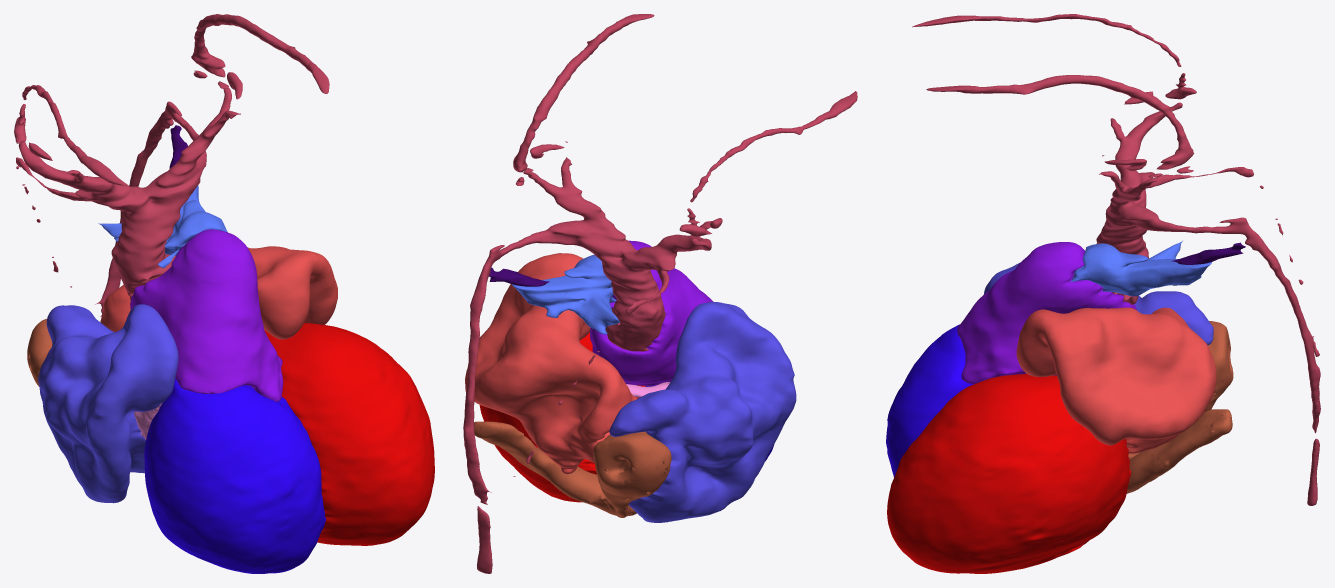
The picture shows the model from 3 angles, left to right: view 1: azimuth 30°, elevation 25°; view 2: azimuth 150°, elevation 25°; view 3: azimuth 270°, elevation 25°; orthographic projection. The views are drawn at different scales.
Visible parts, largest first — view 1: cs17_N1699_right_ventricle, cs17_N1699_left_ventricle, cs17_N1699_right_atrium, cs17_N1699_aorta_version2, cs17_N1699_oft, cs17_N1699_left_atrium, cs17_N1699_pulmonary_version2, cs17_N1699_veins; view 2: cs17_N1699_right_atrium, cs17_N1699_aorta_version2, cs17_N1699_left_atrium, cs17_N1699_veins, cs17_N1699_oft, cs17_N1699_pulmonary_version2, cs17_N1699_left_ventricle, cs17_N1699_ductus_arteriosus; view 3: cs17_N1699_left_ventricle, cs17_N1699_left_atrium, cs17_N1699_aorta_version2, cs17_N1699_oft, cs17_N1699_right_ventricle, cs17_N1699_veins, cs17_N1699_pulmonary_version2, cs17_N1699_right_atrium, cs17_N1699_ductus_arteriosus.
Part boxes in pixels (bbox=[...]): cs17_N1699_right_ventricle: bbox=[144, 379, 326, 573]; cs17_N1699_left_ventricle: bbox=[264, 323, 434, 545]; cs17_N1699_right_atrium: bbox=[38, 304, 178, 503]; cs17_N1699_aorta_version2: bbox=[14, 14, 329, 316]; cs17_N1699_oft: bbox=[130, 229, 283, 401]; cs17_N1699_left_atrium: bbox=[100, 246, 337, 339]; cs17_N1699_pulmonary_version2: bbox=[98, 185, 227, 268]; cs17_N1699_veins: bbox=[27, 319, 52, 386]; cs17_N1699_right_atrium: bbox=[609, 302, 796, 522]; cs17_N1699_aorta_version2: bbox=[463, 14, 857, 573]; cs17_N1699_left_atrium: bbox=[465, 253, 637, 474]; cs17_N1699_veins: bbox=[474, 421, 671, 517]; cs17_N1699_oft: bbox=[590, 240, 713, 385]; cs17_N1699_pulmonary_version2: bbox=[512, 254, 619, 334]; cs17_N1699_left_ventricle: bbox=[479, 332, 645, 502]; cs17_N1699_ductus_arteriosus: bbox=[489, 267, 549, 286]; cs17_N1699_left_ventricle: bbox=[887, 374, 1131, 573]; cs17_N1699_left_atrium: bbox=[1016, 307, 1216, 453]; cs17_N1699_aorta_version2: bbox=[912, 14, 1320, 505]; cs17_N1699_oft: bbox=[957, 242, 1136, 383]; cs17_N1699_right_ventricle: bbox=[886, 324, 974, 477]; cs17_N1699_veins: bbox=[1126, 321, 1233, 493]; cs17_N1699_pulmonary_version2: bbox=[1069, 241, 1211, 296]; cs17_N1699_right_atrium: bbox=[984, 262, 1213, 345]; cs17_N1699_ductus_arteriosus: bbox=[1171, 242, 1245, 264].
Size of the model in its own units: 655 by 886 by 732.
